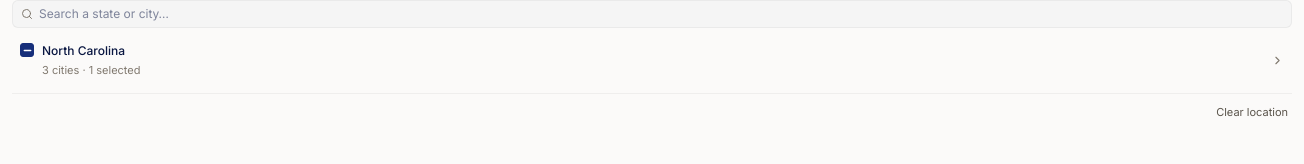
Test: LocationPicker cascade bug (full group vs search-filtered group) › clicking the state parent while a city search is active and a HIDDEN city is pre-selected clears ALL city selections (including the hidden one), not just the vi
Later steps or results of the test are not shown.
In the field with placeholder "Search a state or city…": point(661, 14) [39, 5, 1283, 23], type "fay"
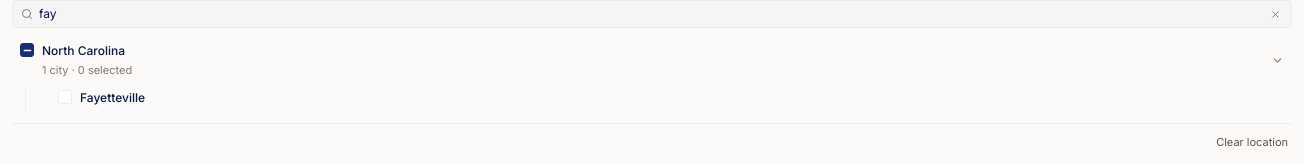
Check: the text "Fayetteville" is shown, box [80, 88, 145, 106]
